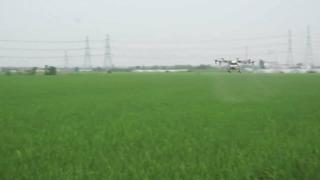UAV: (215, 58, 256, 73)
